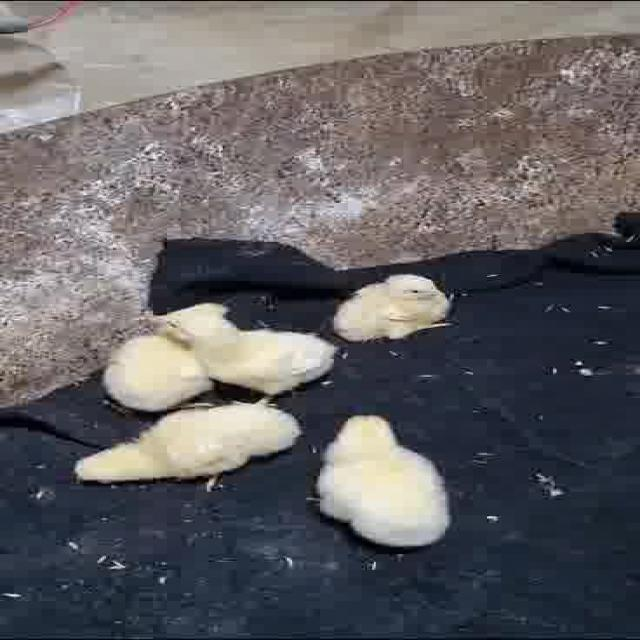poussin: (75, 398, 305, 492), (310, 405, 455, 551), (179, 305, 343, 394), (94, 326, 205, 412), (335, 272, 455, 344)
